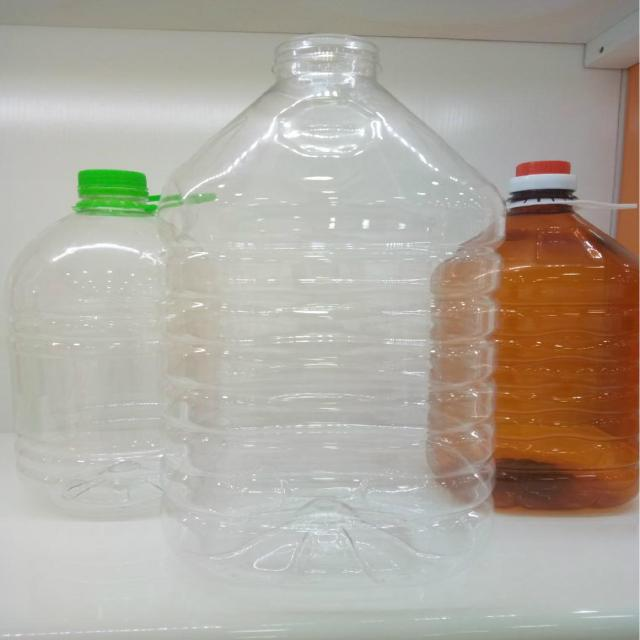-Recyclables - plastic bottle-: (161, 31, 492, 590), (424, 158, 640, 516), (0, 169, 220, 515)
